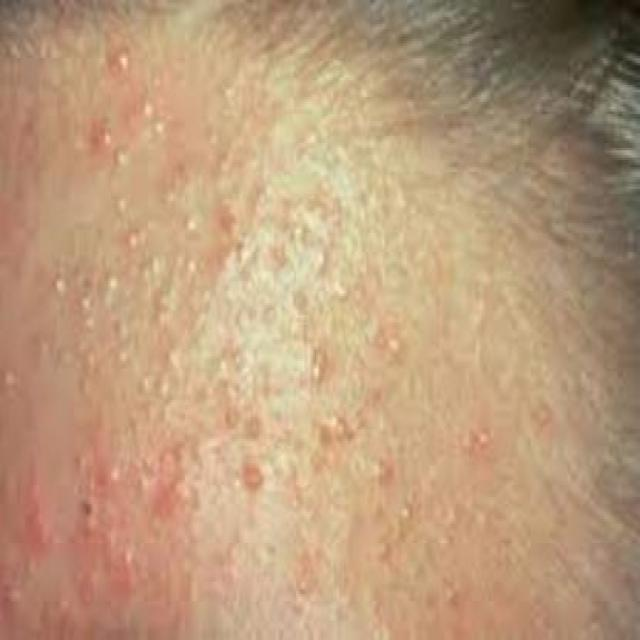whiteheads: (37, 260, 76, 316), (134, 240, 168, 301), (291, 352, 341, 392), (322, 398, 362, 446), (130, 77, 164, 131), (370, 448, 406, 494), (106, 36, 140, 82), (93, 252, 131, 293), (108, 136, 137, 184), (230, 468, 273, 499), (172, 206, 204, 247), (105, 179, 131, 228), (76, 284, 96, 346), (157, 330, 187, 371), (300, 240, 332, 274), (102, 454, 126, 499), (285, 204, 307, 252), (219, 398, 250, 432), (242, 404, 268, 444), (114, 545, 145, 577), (324, 269, 353, 303), (176, 250, 200, 291), (156, 364, 177, 409), (386, 332, 407, 373), (130, 368, 151, 402), (2, 361, 20, 398)
